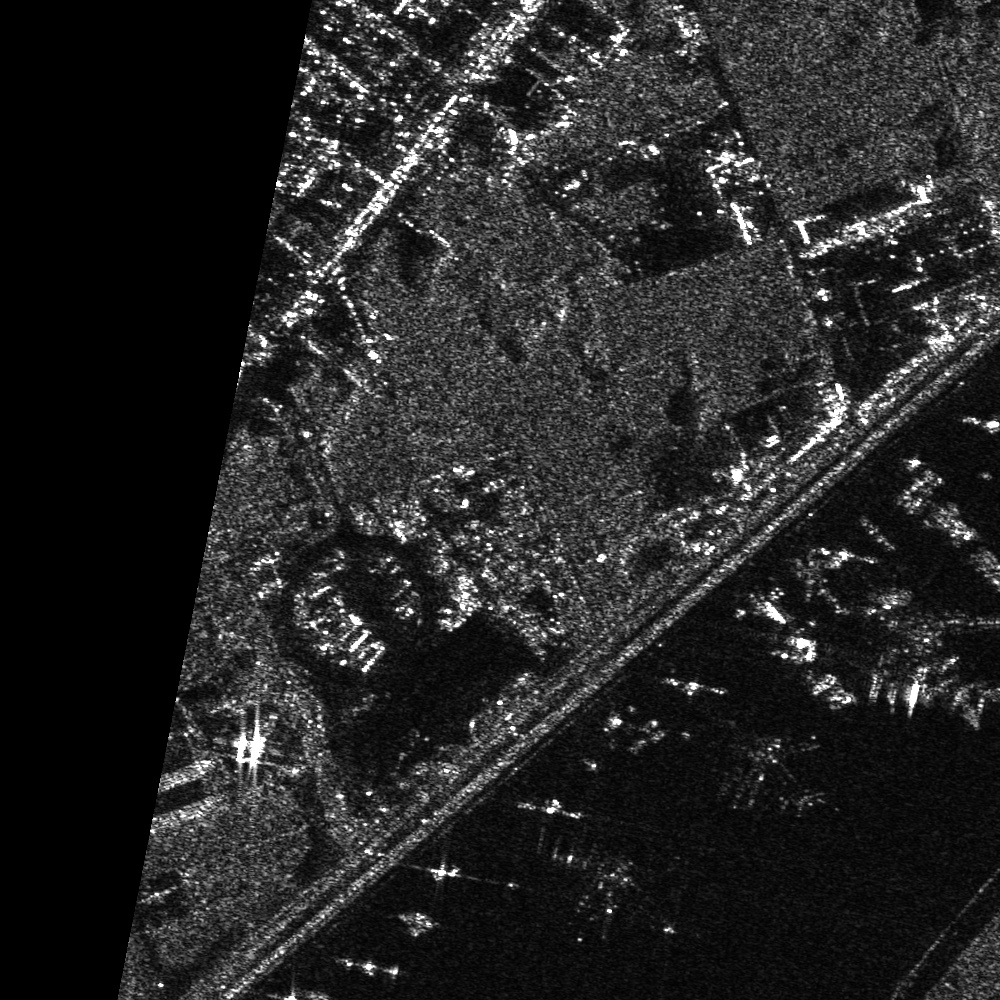Boeing737: (731, 730, 829, 822)
other: (867, 606, 999, 732), (539, 849, 682, 951)
